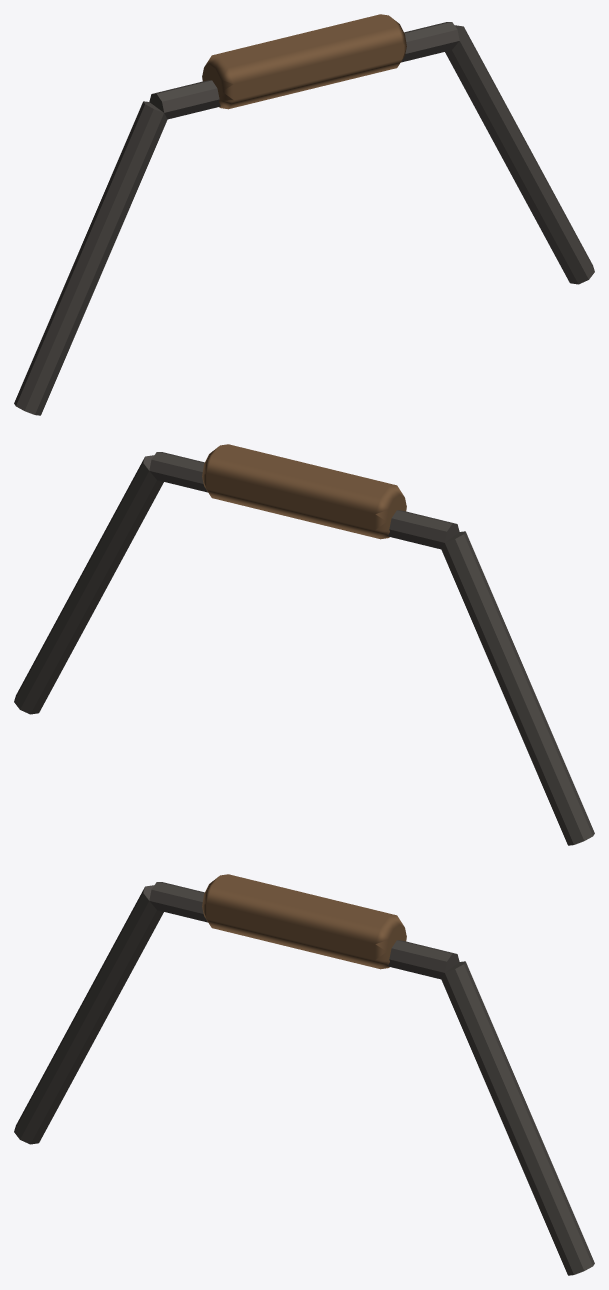
Rendered from CampBucketBail.glb.
3 views of the same model, one above another, from view 1: azimuth 30°, elevation 25°; view 2: azimuth 150°, elevation 25°; view 3: azimuth 330°, elevation 25° (orthographic).
Visible parts, largest first — view 1: CampBucketBail.001; view 2: CampBucketBail.001; view 3: CampBucketBail.001.
Part boxes in pixels (left/top/right/bottom): CampBucketBail.001: left=14, top=14, right=594, bottom=415; CampBucketBail.001: left=14, top=444, right=594, bottom=845; CampBucketBail.001: left=14, top=874, right=594, bottom=1275.
Size of the model in its own units: 0.3125 by 0.1614 by 0.0253.
